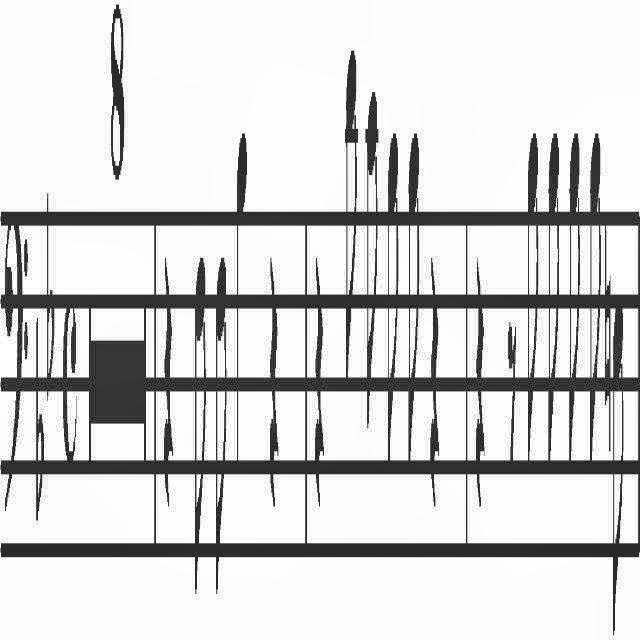Bemol: (34, 310, 44, 528), (46, 183, 54, 404)
Eighth-note: (344, 40, 358, 396), (385, 120, 399, 476), (526, 120, 540, 476), (588, 129, 602, 479), (215, 246, 228, 614), (567, 126, 581, 467), (194, 242, 206, 614), (548, 123, 560, 485), (366, 77, 378, 427), (408, 120, 420, 467), (612, 292, 624, 636)
Eighth-rest: (507, 307, 517, 479)
Quarter-note: (236, 126, 248, 474)
Quarter-rest: (428, 254, 442, 532), (472, 261, 488, 504), (268, 245, 280, 515), (314, 248, 326, 516), (162, 261, 174, 519)
